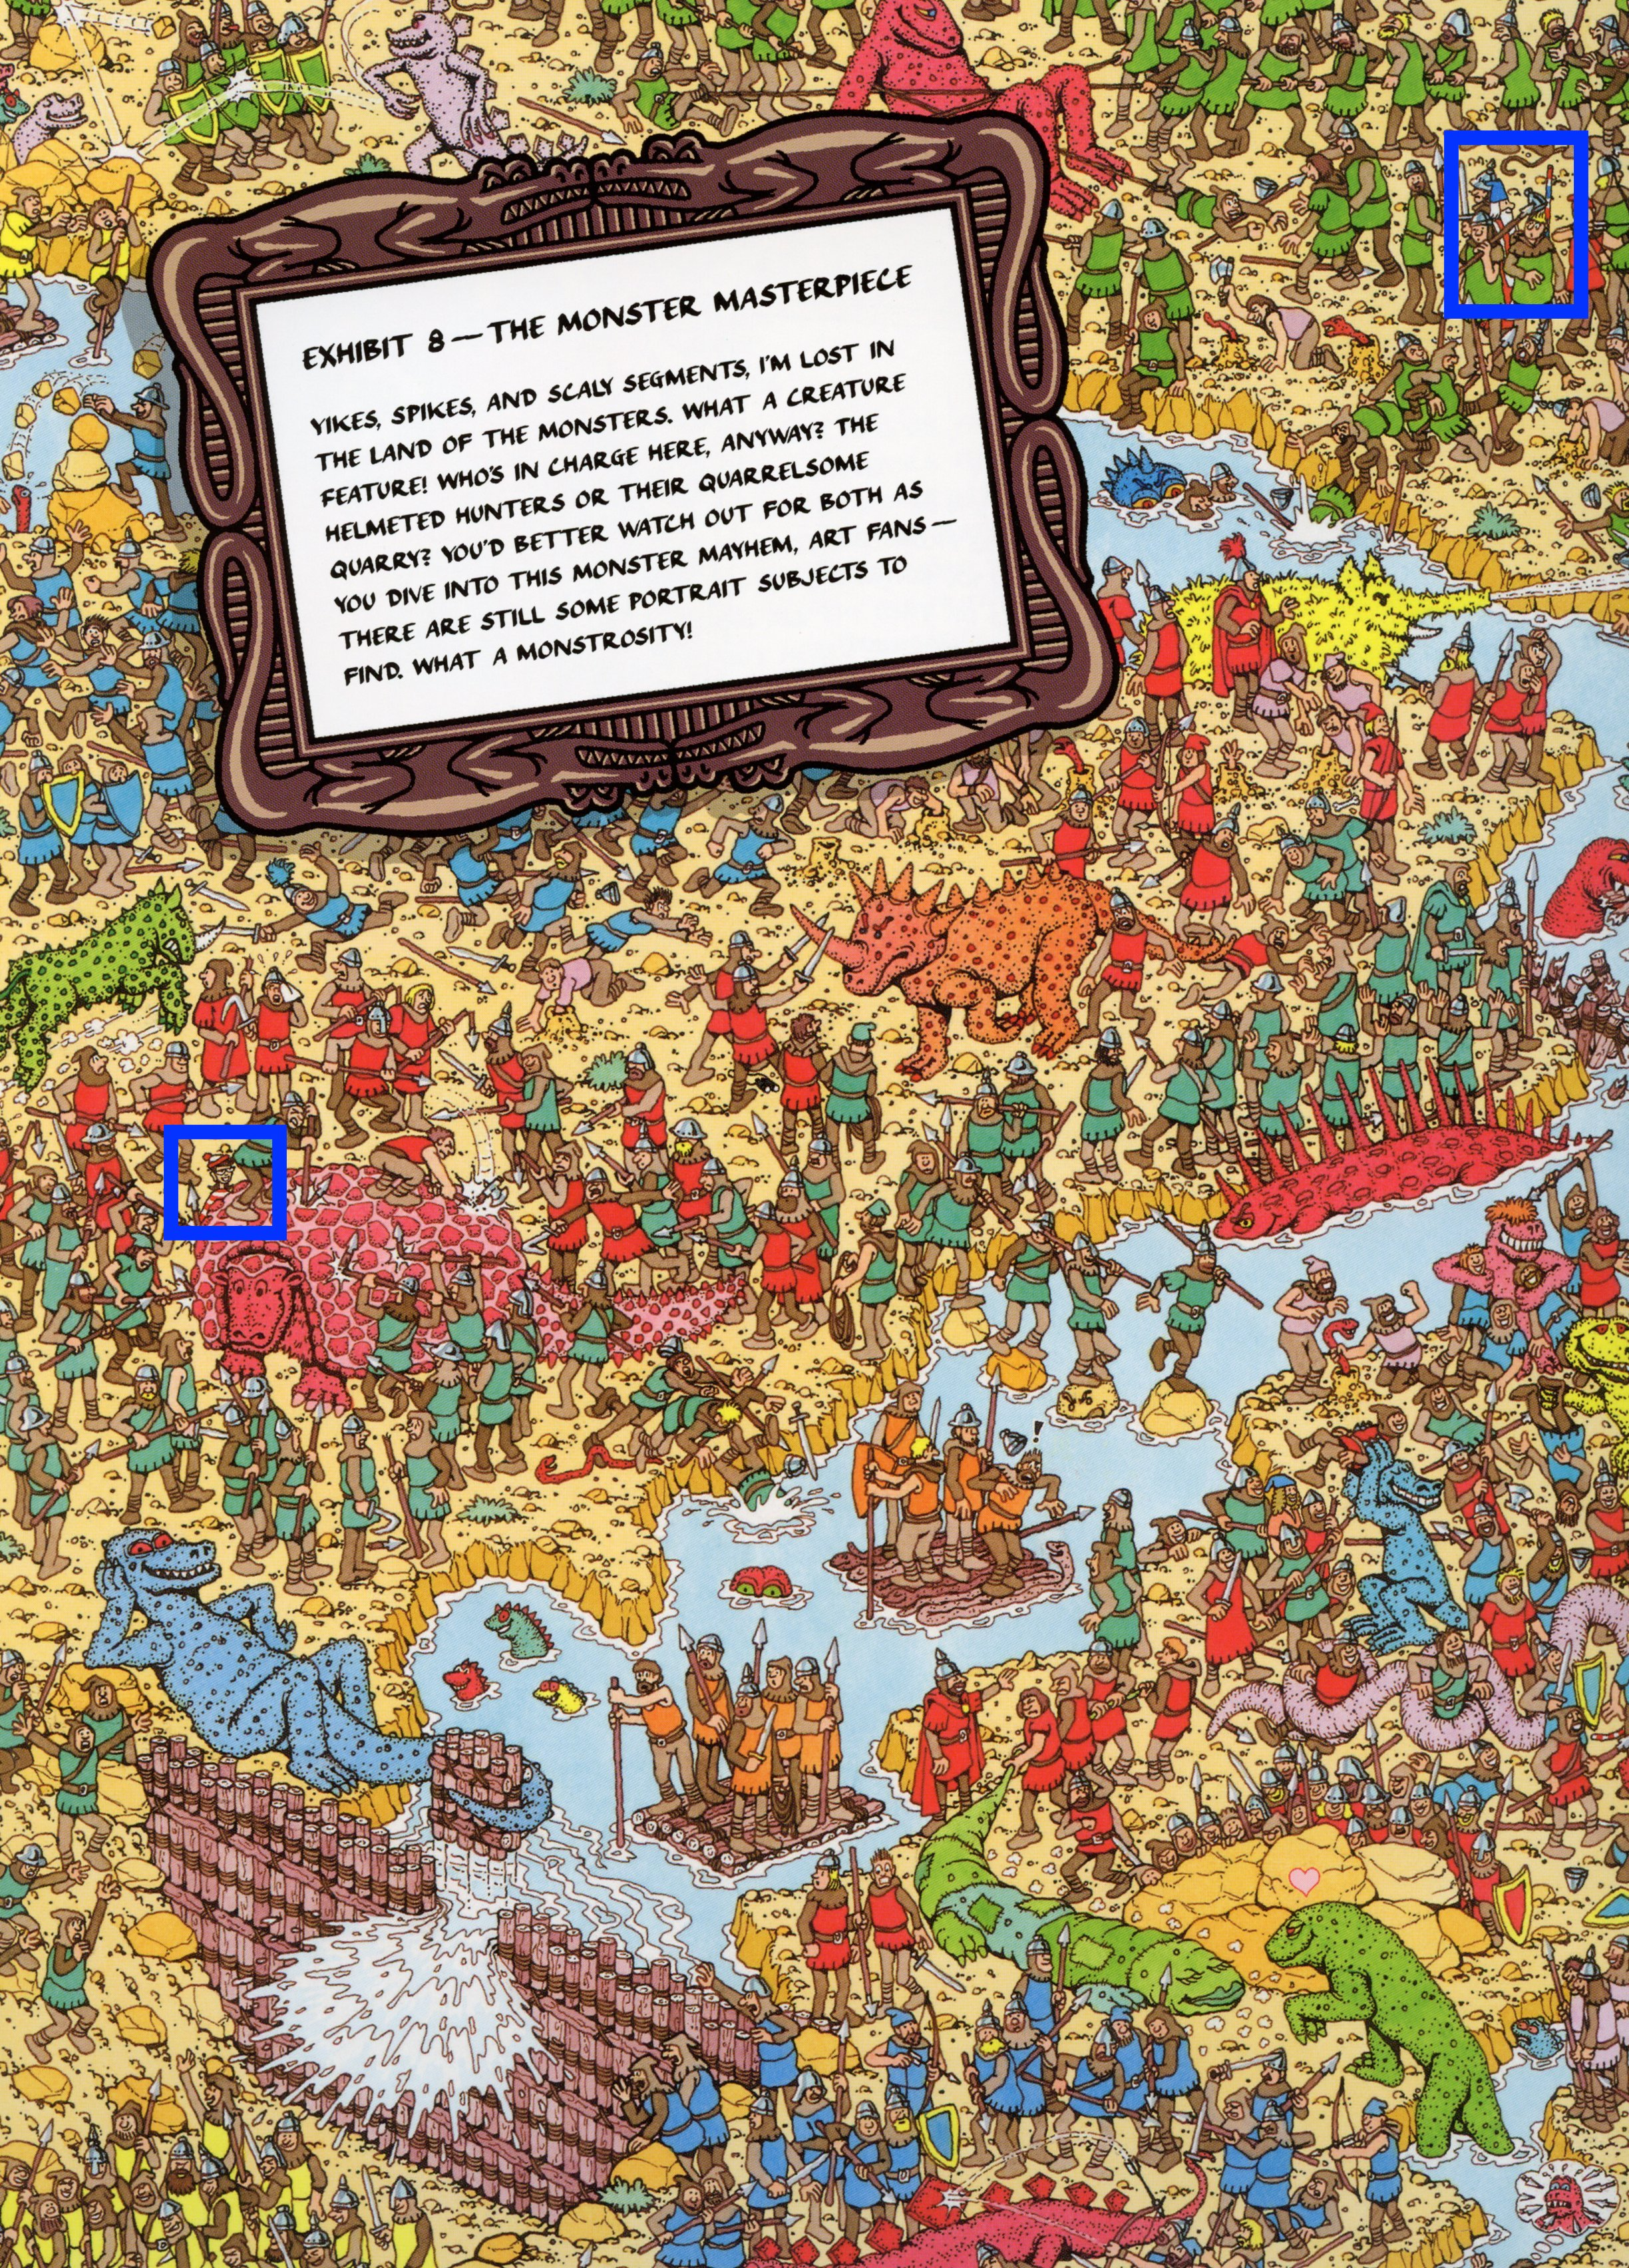wenda: (171, 1116, 285, 1264)
white beard: (1405, 129, 1629, 335)
